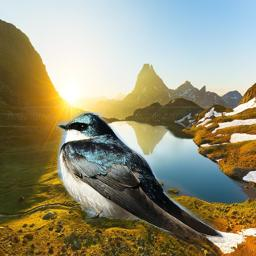Swallow: (56, 111, 225, 243)
